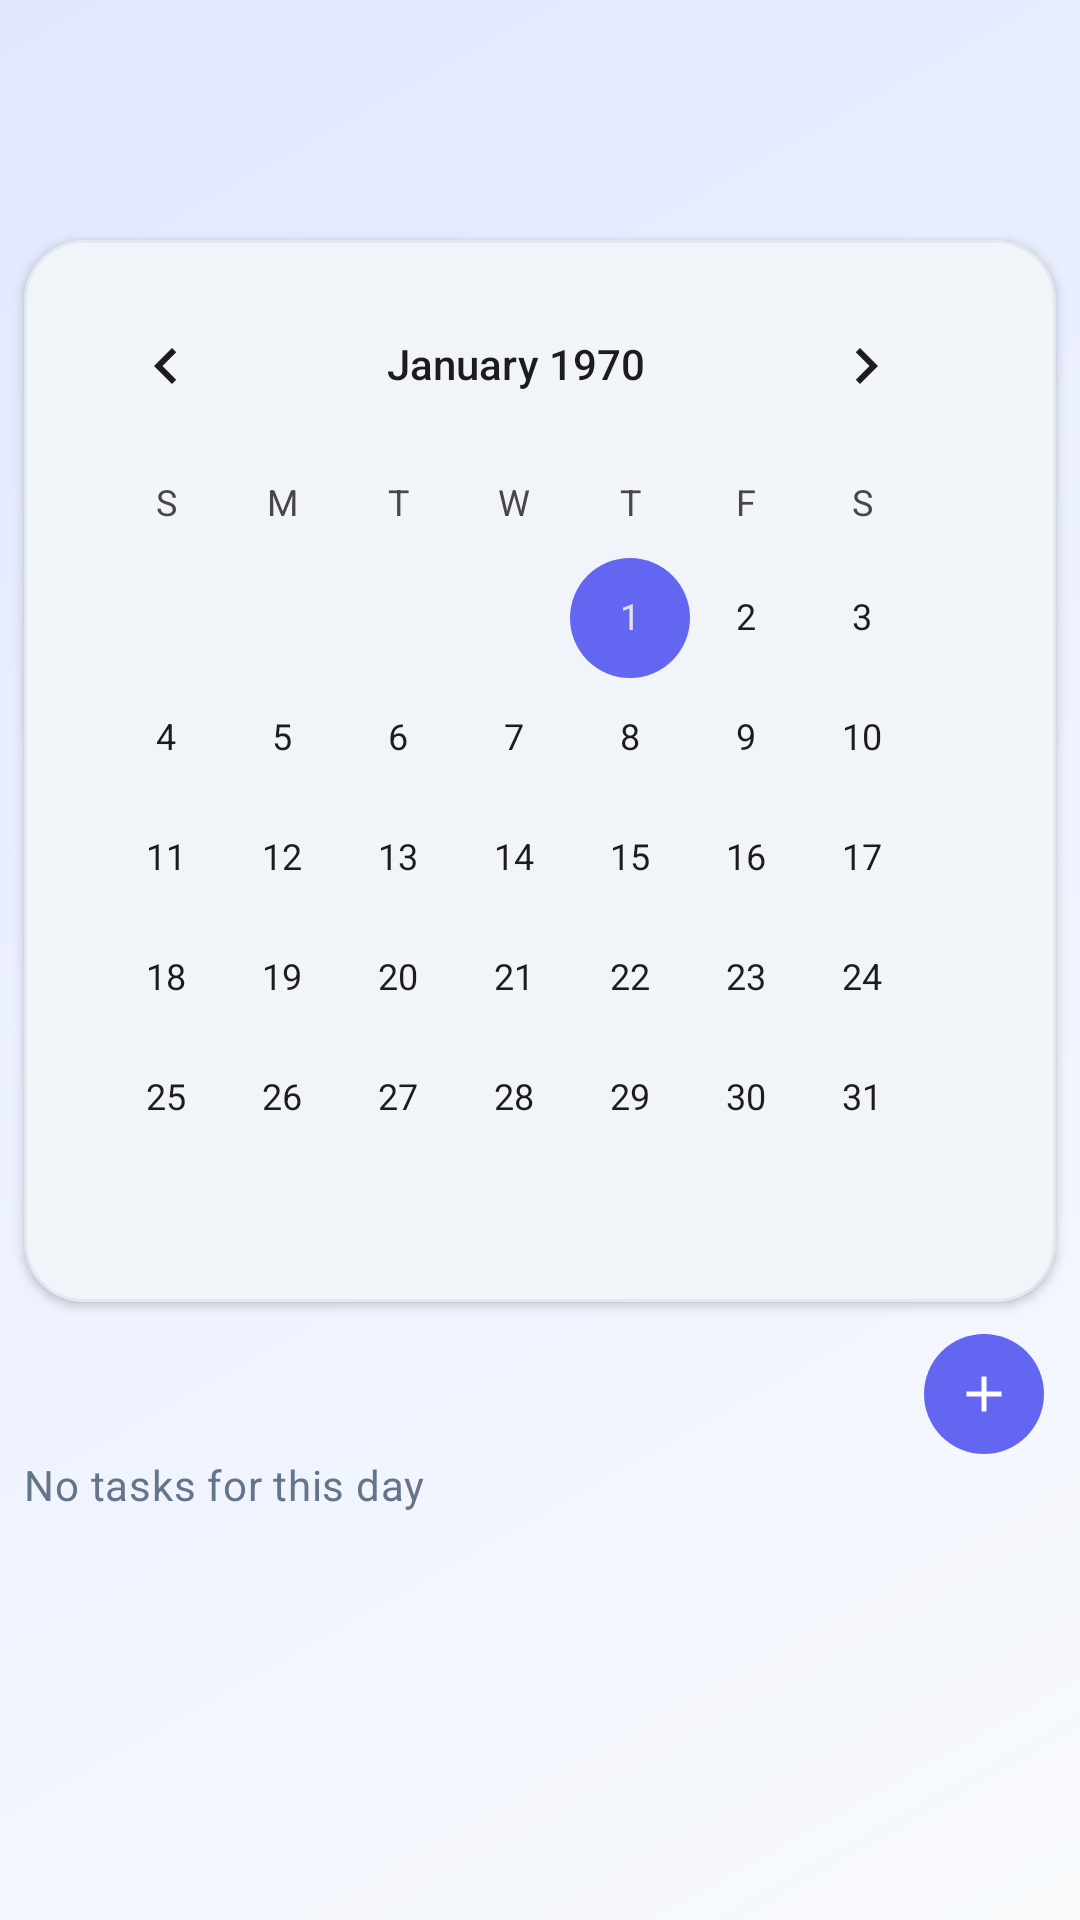

Icon click points for this 1080*1920 phone screenshot, format [x,y]:
add: [984,1394]
